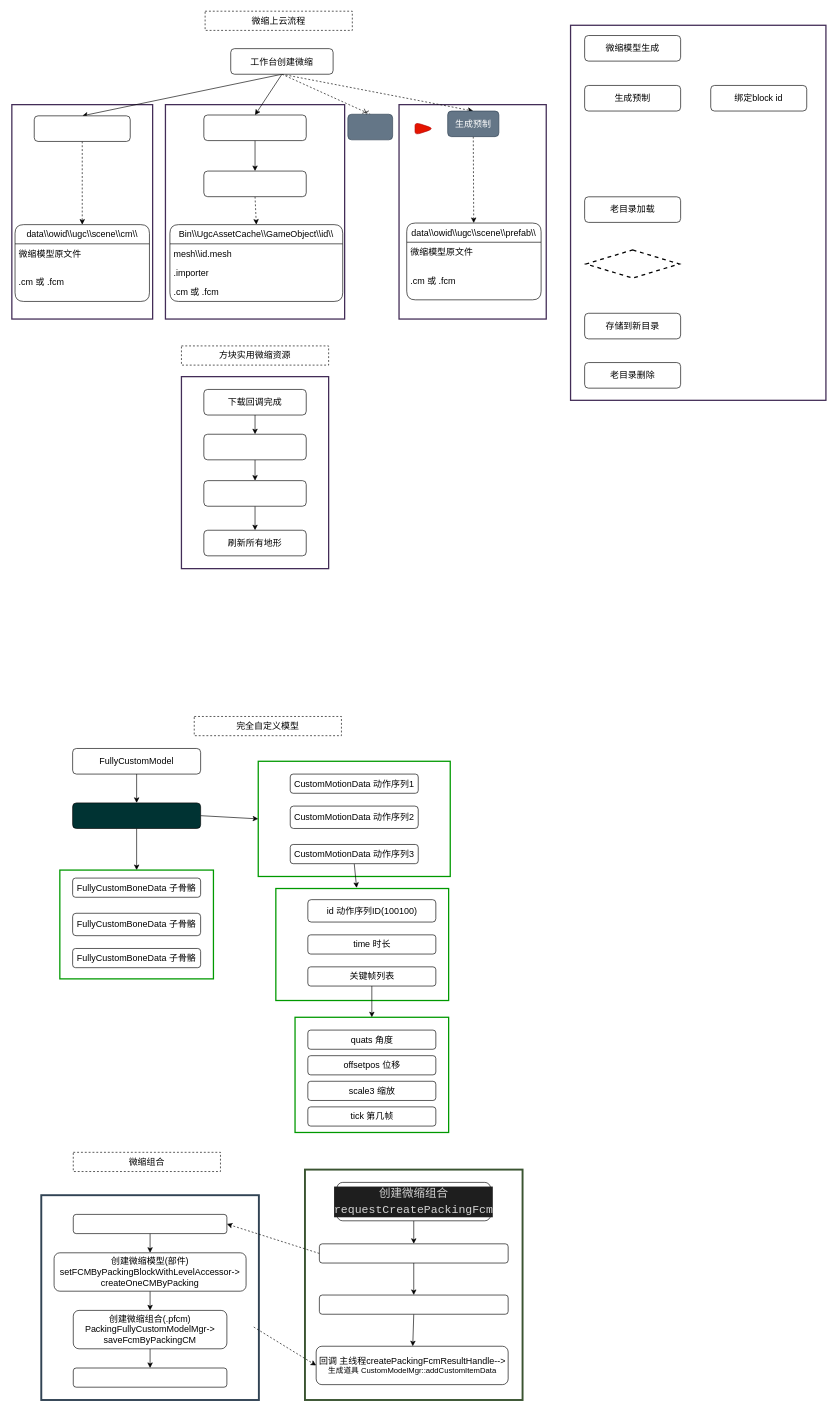
Image size: 837x1412. Some labels were removed from this diagram. The centre of each missing label's shape, as x and y in pixels:
"CustomModelPacking::createPackingFcm" belongs at point 413,1253.
"FullyCustomBoneData 根" belongs at point 136,815.
"FullyCustomModel::save" belongs at point 150,1377.
"上传云资源" belongs at point 254,183.
"子线程 CreatePackingFcm" belongs at point 150,1224.
"新增def DefManager::addDefByCustomModel" belongs at point 413,1304.
"是作者" belongs at point 632,263.
"生成.cm文件" belongs at point 82,128.
"生成pkg文件夹" belongs at point 254,127.
"生成插件 AddDef" belongs at point 370,127.
"获取mesh" belongs at point 254,447.
"顶点-->BlockGeom" belongs at point 254,493.
